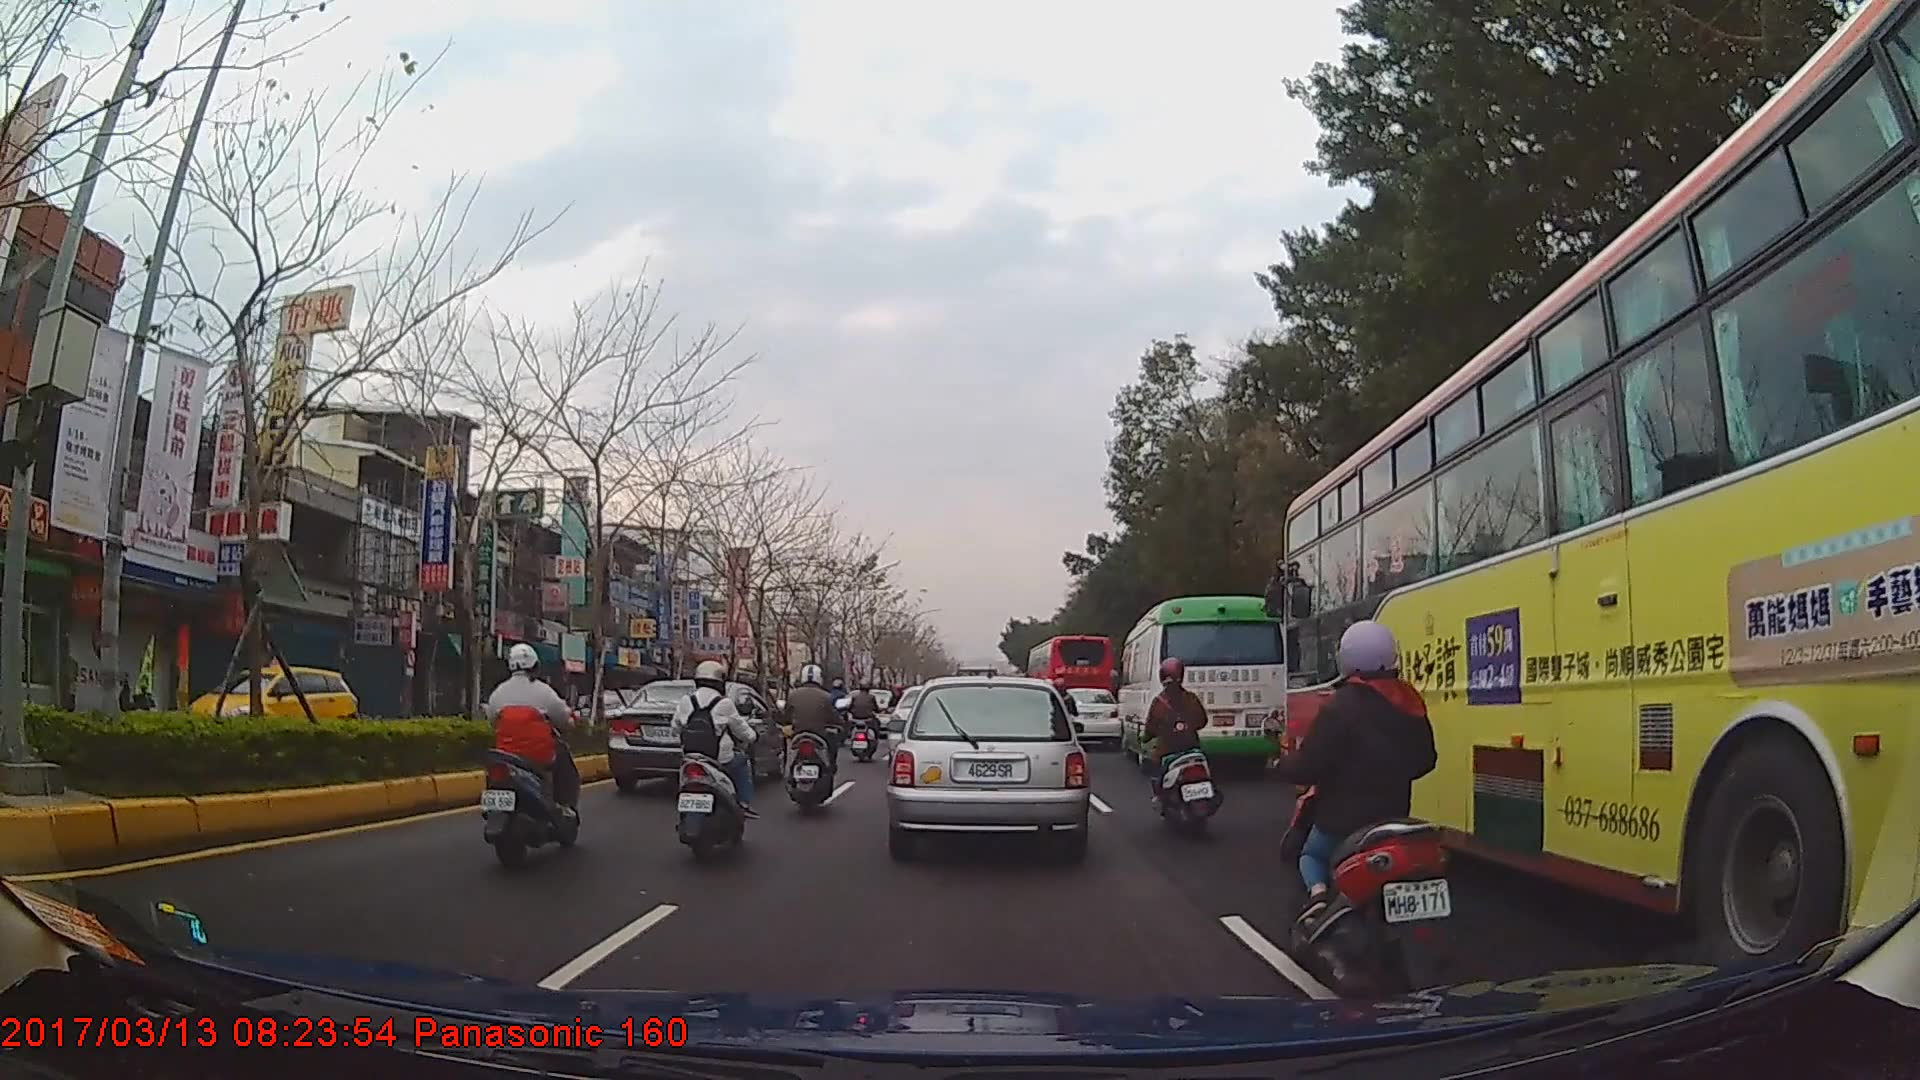rider: (1296, 613, 1451, 1004), (476, 642, 580, 872), (669, 659, 753, 865), (1137, 658, 1220, 832), (779, 665, 848, 815), (847, 680, 884, 765), (829, 679, 854, 729)
vehicle: (1277, 0, 1920, 1016), (888, 672, 1087, 857), (1116, 592, 1287, 774), (605, 678, 787, 795), (183, 649, 357, 753), (1026, 632, 1113, 741), (1052, 686, 1121, 745)
